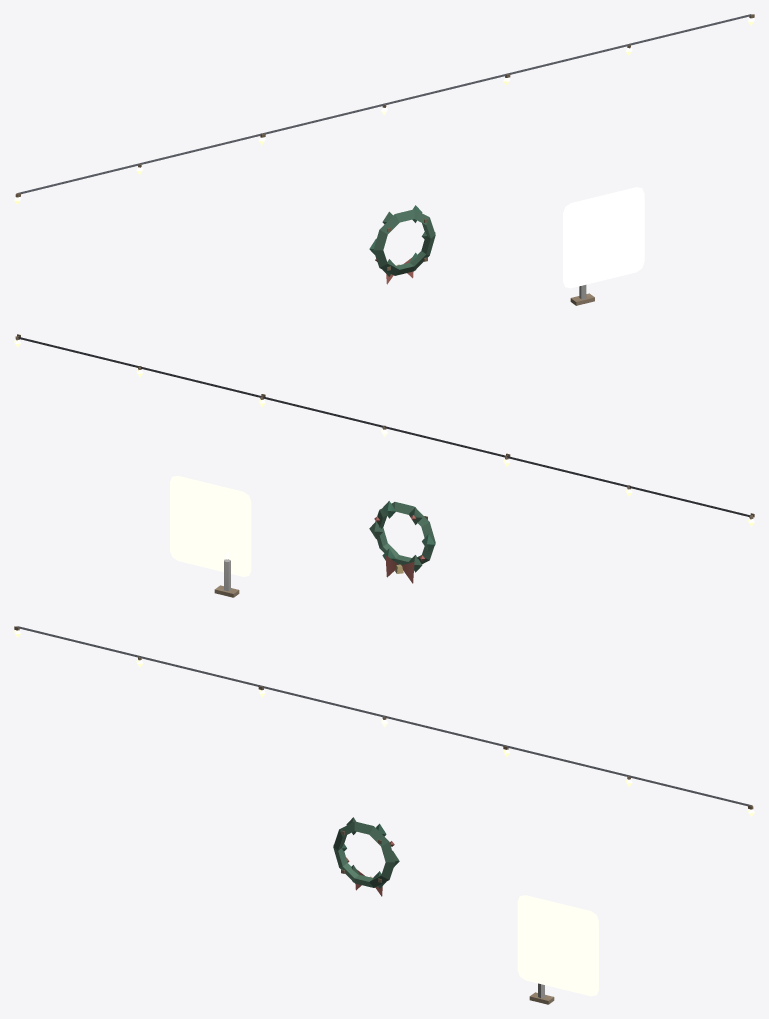
Rendered from house_dress_hut_low.glb.
The picture shows the model from 3 angles, top to bottom: view 1: azimuth 30°, elevation 25°; view 2: azimuth 150°, elevation 25°; view 3: azimuth 330°, elevation 25°; orthographic projection.
Size of the model in its own units: 5.09 by 1.49 by 0.3019.
